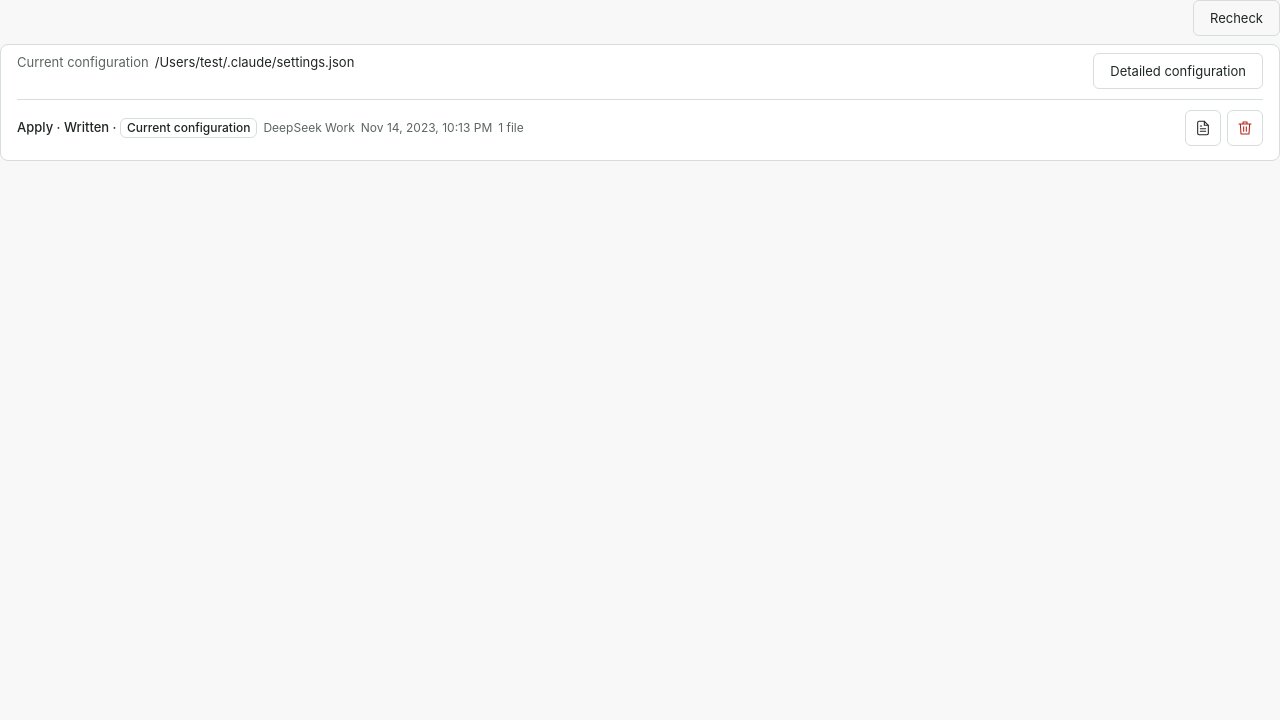
a saved configuration opens a dialog for its own identity
Check: the text "DeepSeek Work" is shown, box [264, 120, 355, 136]
Step 1. Click the button named "Show details" → (1203,128), box [1185, 110, 1221, 146]
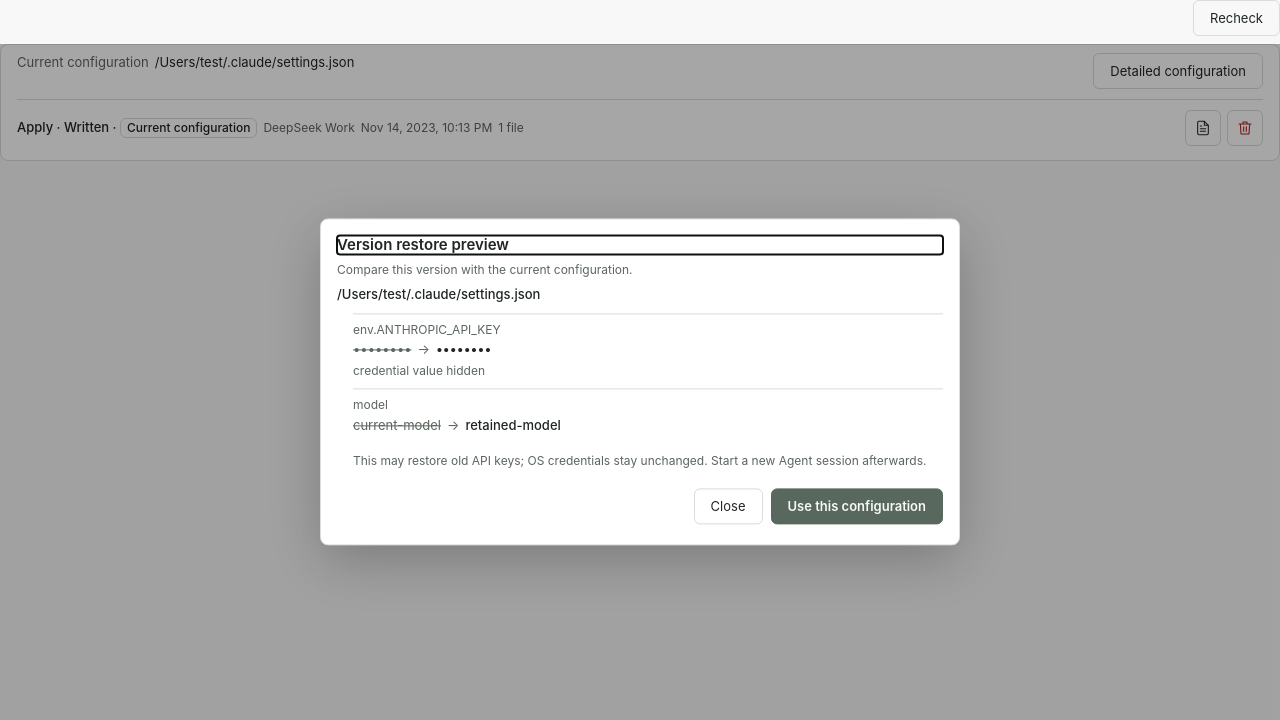
Check: the element named "Version restore preview" is shown, box [337, 285, 943, 529]
Check: the text "model" is shown, box [353, 398, 388, 413]
